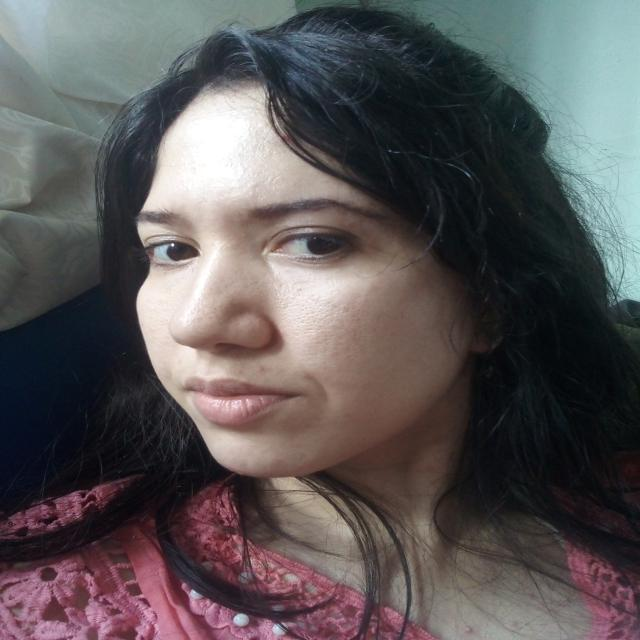Acne: (412, 391, 431, 404), (272, 459, 285, 469), (257, 364, 267, 374), (342, 411, 352, 420), (293, 284, 303, 292)
Blackheads: (182, 286, 220, 331)
Englarged-Pores: (272, 281, 366, 376), (152, 300, 175, 346)
